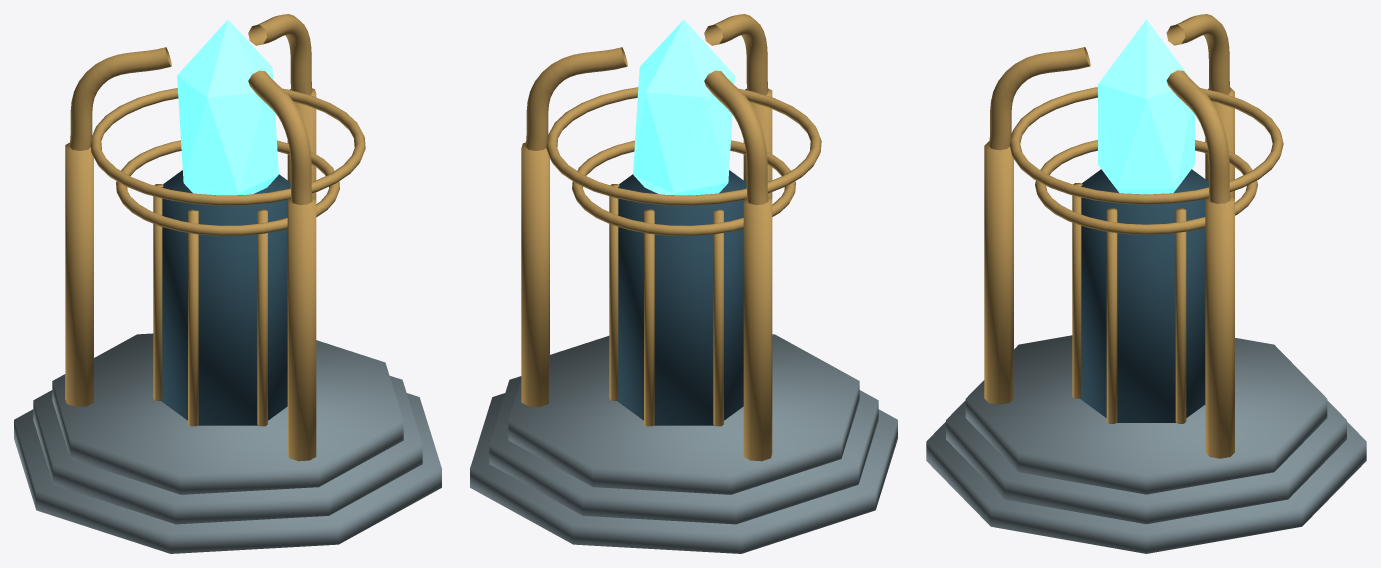
File: spire-2.glb
3 views of the same model, side by side, from view 1: azimuth 30°, elevation 25°; view 2: azimuth 150°, elevation 25°; view 3: azimuth 270°, elevation 25° (orthographic).
Parts seen in each view (by area): view 1: Foundation_Carved blue limestone.001, Turret_Aged brass.001, Foundation_Royal blue enamel.001, Core_Storm crystal.001, Core_Aged brass.001, Foundation_Aged brass.001; view 2: Foundation_Carved blue limestone.001, Turret_Aged brass.001, Foundation_Royal blue enamel.001, Core_Storm crystal.001, Core_Aged brass.001, Foundation_Aged brass.001; view 3: Foundation_Carved blue limestone.001, Turret_Aged brass.001, Foundation_Royal blue enamel.001, Core_Storm crystal.001, Core_Aged brass.001, Foundation_Aged brass.001.
Part boxes in pixels (x1,y1,x2,y2): Foundation_Carved blue limestone.001: (14,333,441,553); Turret_Aged brass.001: (65,14,316,461); Foundation_Royal blue enamel.001: (161,170,290,425); Core_Storm crystal.001: (177,20,278,195); Core_Aged brass.001: (90,88,365,235); Foundation_Aged brass.001: (153,184,267,426); Foundation_Carved blue limestone.001: (470,334,897,553); Turret_Aged brass.001: (521,14,772,461); Foundation_Royal blue enamel.001: (617,170,746,425); Core_Storm crystal.001: (633,20,734,195); Core_Aged brass.001: (546,87,821,235); Foundation_Aged brass.001: (609,184,723,426); Foundation_Carved blue limestone.001: (926,335,1366,553); Turret_Aged brass.001: (984,14,1234,458); Foundation_Royal blue enamel.001: (1080,169,1208,422); Core_Storm crystal.001: (1098,19,1194,194); Core_Aged brass.001: (1009,87,1283,234); Foundation_Aged brass.001: (1072,183,1186,423).
Bounding box in the file's own units: 2.24 × 2.48 × 2.24.
